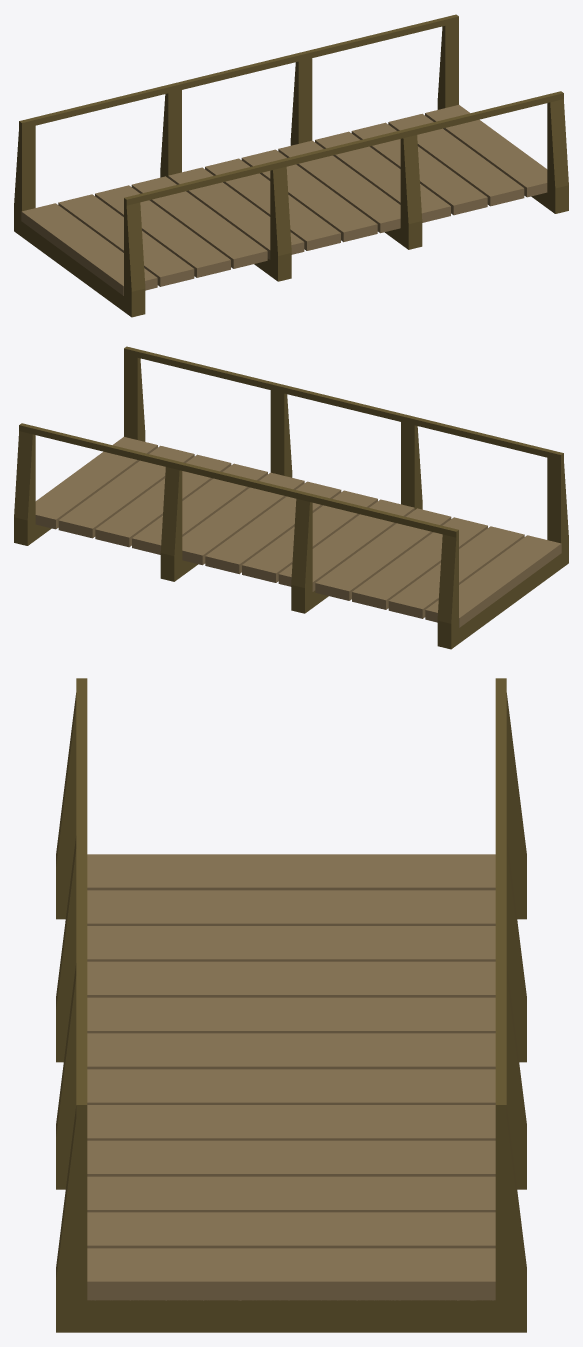
Rendered from Bridge.fbx.
The picture shows the model from 3 angles, top to bottom: view 1: azimuth 30°, elevation 25°; view 2: azimuth 150°, elevation 25°; view 3: azimuth 270°, elevation 25°; orthographic projection. The views are drawn at different scales.
Parts seen in each view (by area): view 1: Bridge; view 2: Bridge; view 3: Bridge.
Boxes of the visible parts, x1,y1,x2,y2 form: Bridge: (14,14,568,317); Bridge: (14,346,568,649); Bridge: (56,678,526,1332).
Size of the model in its own units: 804 by 200 by 375.
